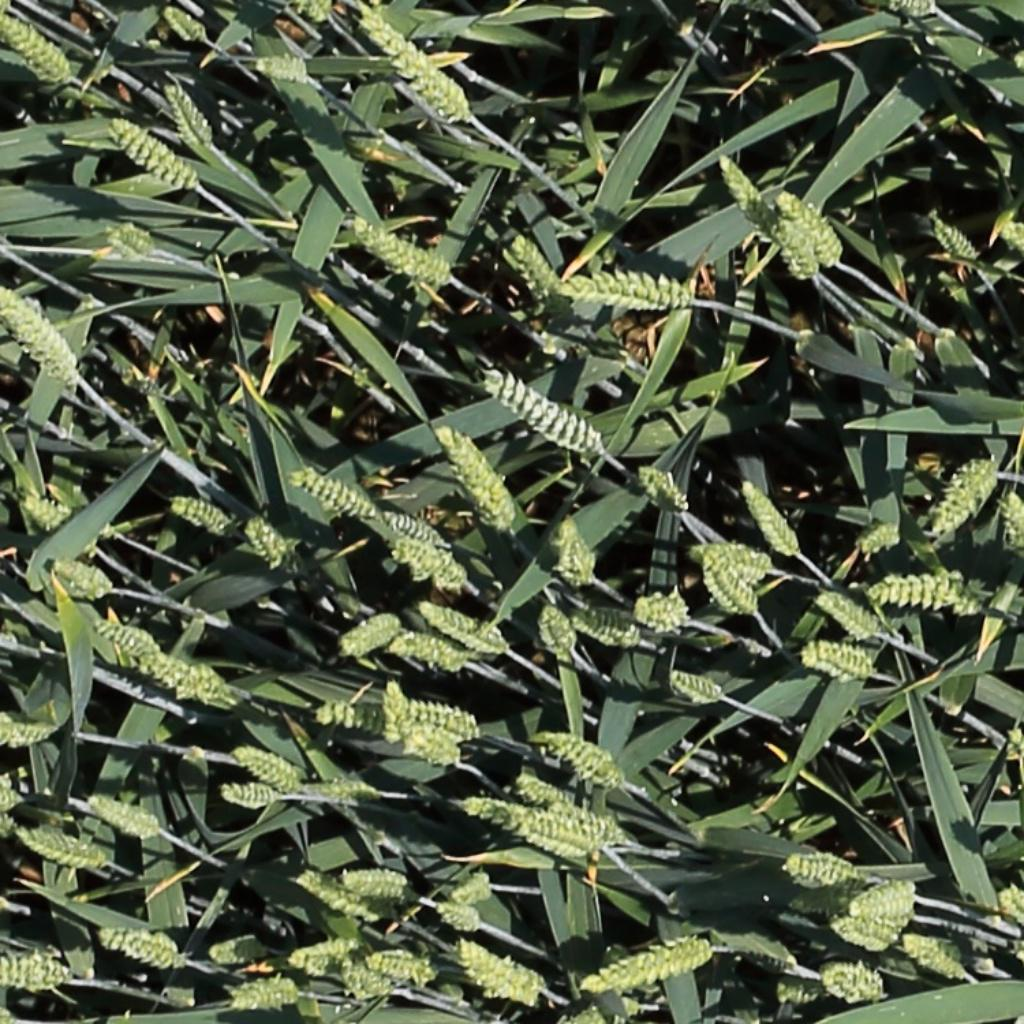0-0: (357, 5, 472, 122), (486, 368, 610, 456), (498, 216, 580, 336), (436, 419, 518, 532), (587, 928, 722, 989), (32, 463, 122, 553), (0, 281, 79, 383), (555, 265, 702, 319), (468, 800, 595, 862), (386, 691, 462, 779), (872, 564, 989, 621), (107, 114, 197, 188), (457, 942, 554, 1010), (522, 778, 621, 843), (738, 473, 806, 562), (354, 217, 450, 279), (20, 494, 107, 561), (776, 185, 847, 266), (714, 143, 776, 234), (929, 454, 995, 539), (554, 970, 675, 1016), (0, 6, 72, 83), (133, 655, 236, 708), (419, 602, 509, 655), (797, 632, 882, 688), (0, 942, 78, 1003), (293, 468, 382, 521), (774, 197, 832, 277), (96, 928, 199, 973), (537, 734, 625, 785), (161, 75, 217, 154), (632, 588, 710, 644), (299, 873, 383, 924), (241, 512, 301, 580), (284, 777, 390, 814), (203, 928, 289, 973), (398, 703, 491, 744), (704, 557, 764, 619), (787, 843, 876, 884), (393, 539, 469, 587), (16, 831, 109, 869), (365, 945, 444, 989), (267, 940, 360, 976), (87, 795, 161, 839), (819, 591, 883, 641), (928, 208, 983, 266), (834, 917, 908, 960), (992, 866, 1024, 965), (234, 746, 304, 791), (229, 966, 307, 1006), (814, 959, 890, 1000), (255, 58, 327, 101), (902, 935, 969, 981), (557, 512, 595, 591), (206, 777, 294, 811), (636, 461, 690, 516), (393, 634, 468, 671), (333, 954, 393, 1000), (539, 600, 581, 664), (92, 619, 159, 659), (50, 557, 113, 599), (570, 613, 645, 648), (338, 617, 402, 658), (697, 544, 774, 578), (380, 509, 446, 547), (169, 496, 234, 533), (849, 883, 918, 916), (383, 673, 409, 755), (159, 2, 208, 45), (998, 484, 1024, 559), (312, 705, 386, 731), (856, 0, 943, 22), (669, 671, 726, 703), (451, 873, 495, 909), (341, 876, 410, 898), (109, 225, 157, 256), (435, 902, 483, 931), (858, 524, 903, 554), (0, 719, 53, 744), (304, 1, 334, 28), (0, 791, 16, 836), (0, 782, 20, 808), (0, 1008, 15, 1024)
